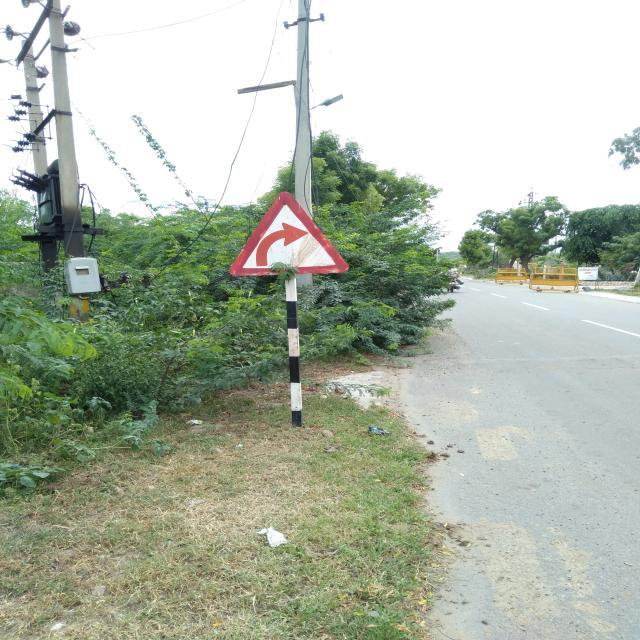right hand curve: (227, 193, 346, 269)
